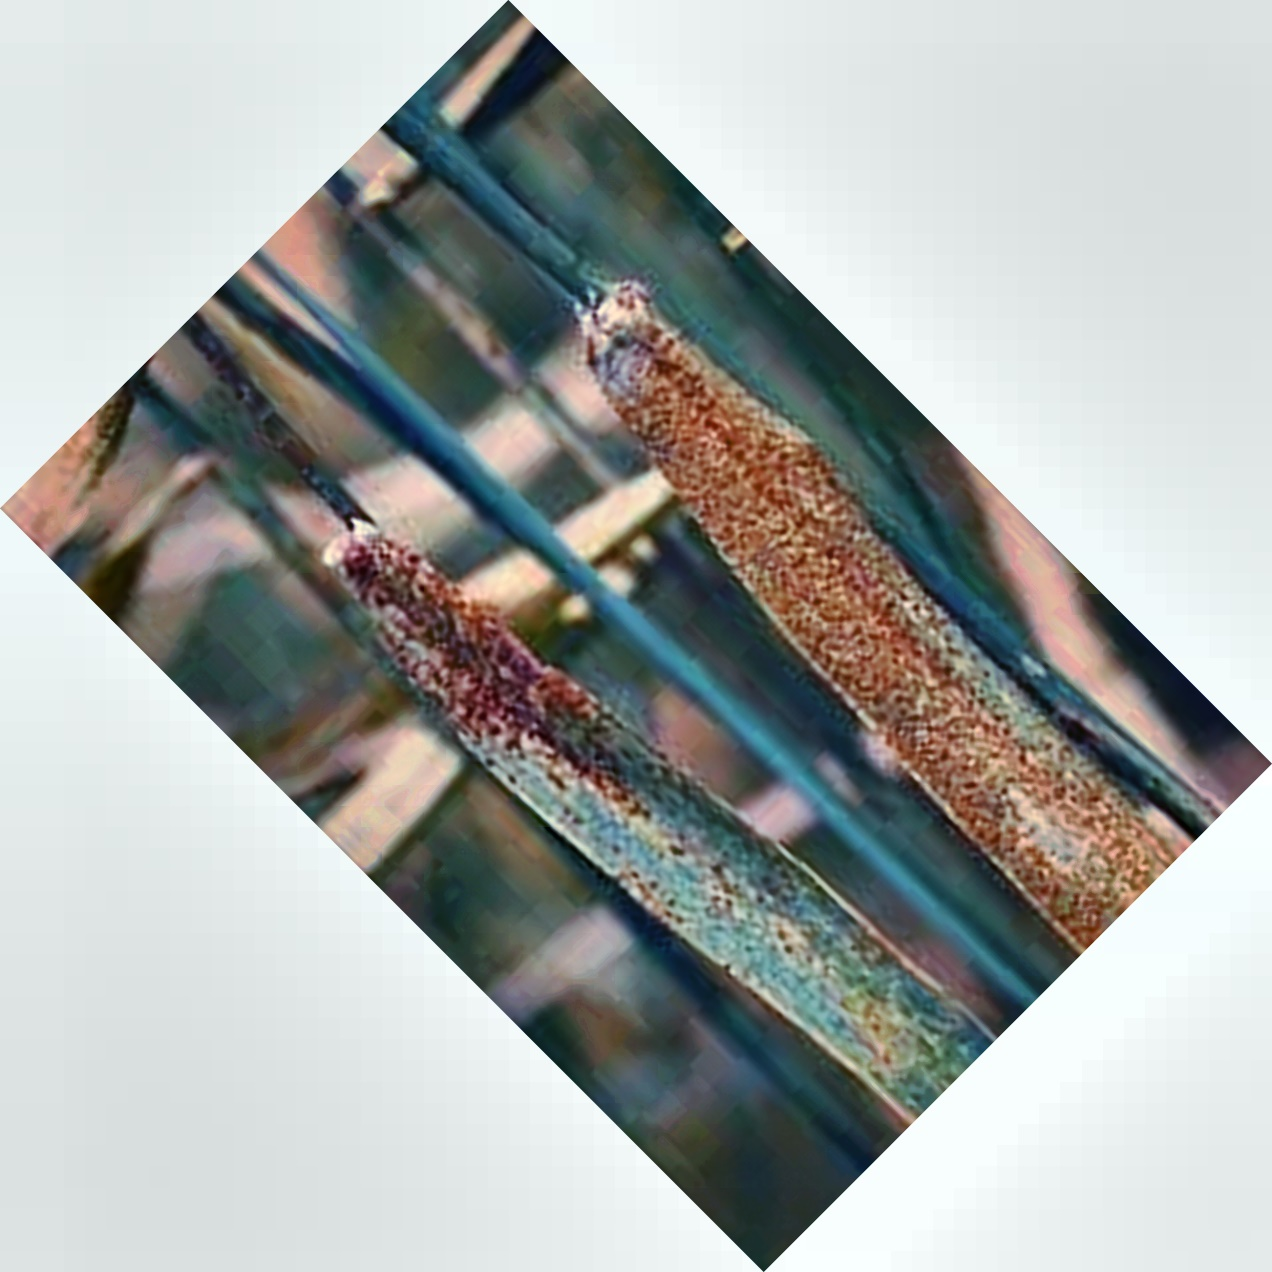Leaf Rust: (608, 330, 1133, 926)
